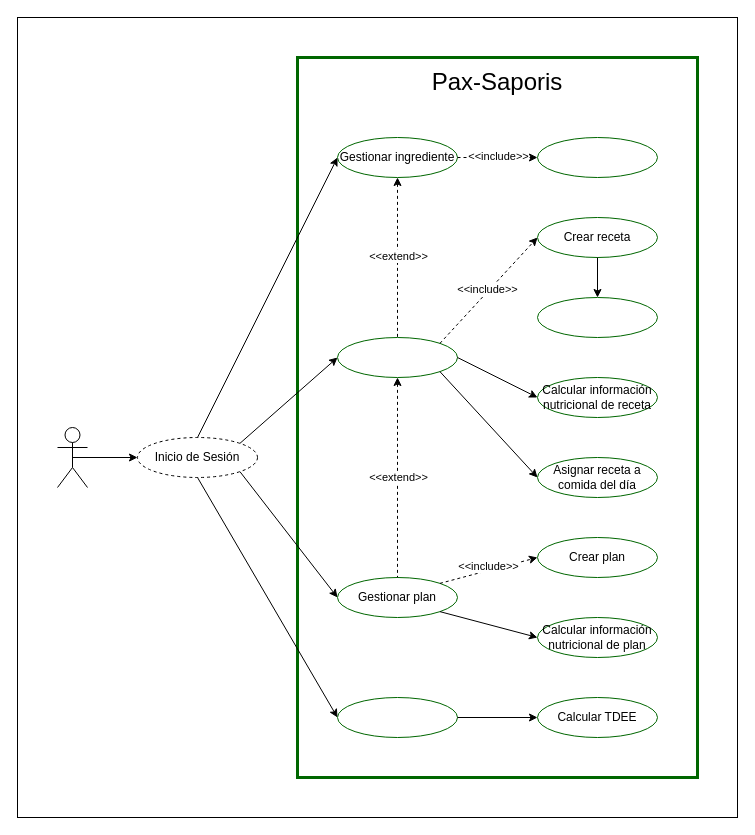
This 755x835 diagram has some shape labels left out. Here are the shapes that lost their labels. From the top down, the centre of each, then its label:
At (x=597, y=157): "Ingresar ingrediente".
At (x=597, y=317): "Nombrar receta".
At (x=397, y=357): "Gestionar receta".
At (x=72, y=457): "Usuario".
At (x=397, y=717): "Ingresar información personal".
